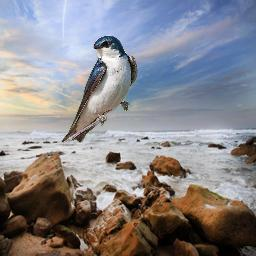Swallow: (61, 34, 138, 144)
